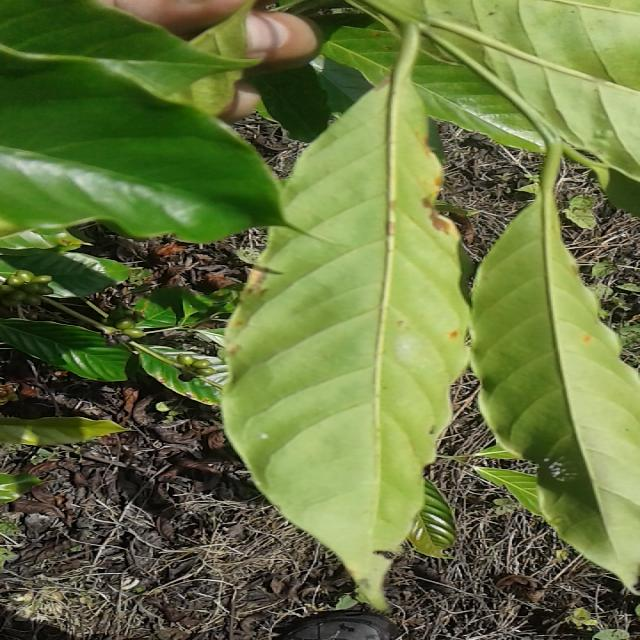Enfermedad-Roya: (220, 26, 474, 604)
